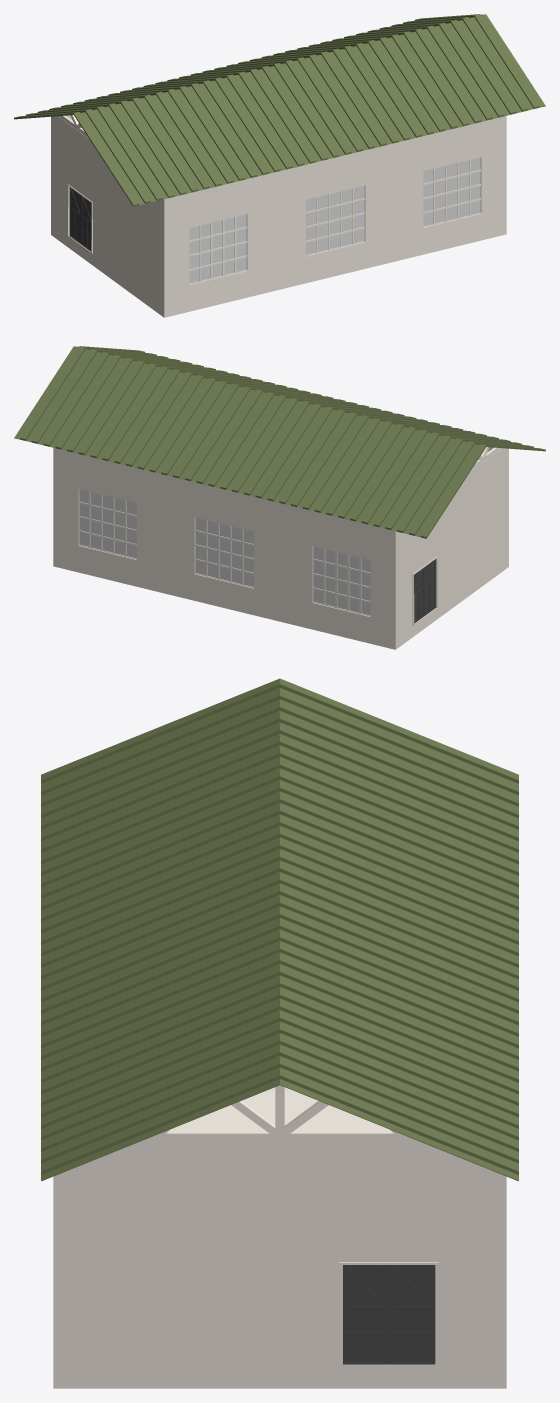
File: factory asset.fbx
3 views of the same model, one above another, from view 1: azimuth 30°, elevation 25°; view 2: azimuth 150°, elevation 25°; view 3: azimuth 270°, elevation 25° (orthographic). The views are drawn at different scales.
Parts seen in each view (by area): view 1: Roof, Building, Cube.001, Cube.002, Cube.008, Door.003, Door.002; view 2: Roof, Building, Cube.007, Cube.009, Cube.006, Door.002, Door.003; view 3: Roof, Building, Door, Door.001, Roofsupports.
Boxes of the visible parts, box(x1,y1,x2,y2) form: Roof: box(14, 14, 545, 206); Building: box(51, 115, 506, 317); Cube.001: box(305, 185, 364, 256); Cube.002: box(423, 157, 480, 227); Cube.008: box(189, 214, 246, 284); Door.003: box(69, 187, 80, 243); Door.002: box(81, 195, 91, 251); Roof: box(14, 346, 545, 538); Building: box(53, 447, 508, 649); Cube.007: box(195, 517, 254, 587); Cube.009: box(79, 489, 136, 559); Cube.006: box(313, 546, 370, 616); Door.002: box(424, 559, 435, 615); Door.003: box(414, 568, 424, 623); Roof: box(41, 678, 518, 1181); Building: box(53, 1087, 506, 1388); Door: box(389, 1265, 435, 1364); Door.001: box(343, 1265, 388, 1364); Roofsupports: box(142, 1085, 417, 1140).
Size of the model in its own units: 5625 by 2234 by 2821.
